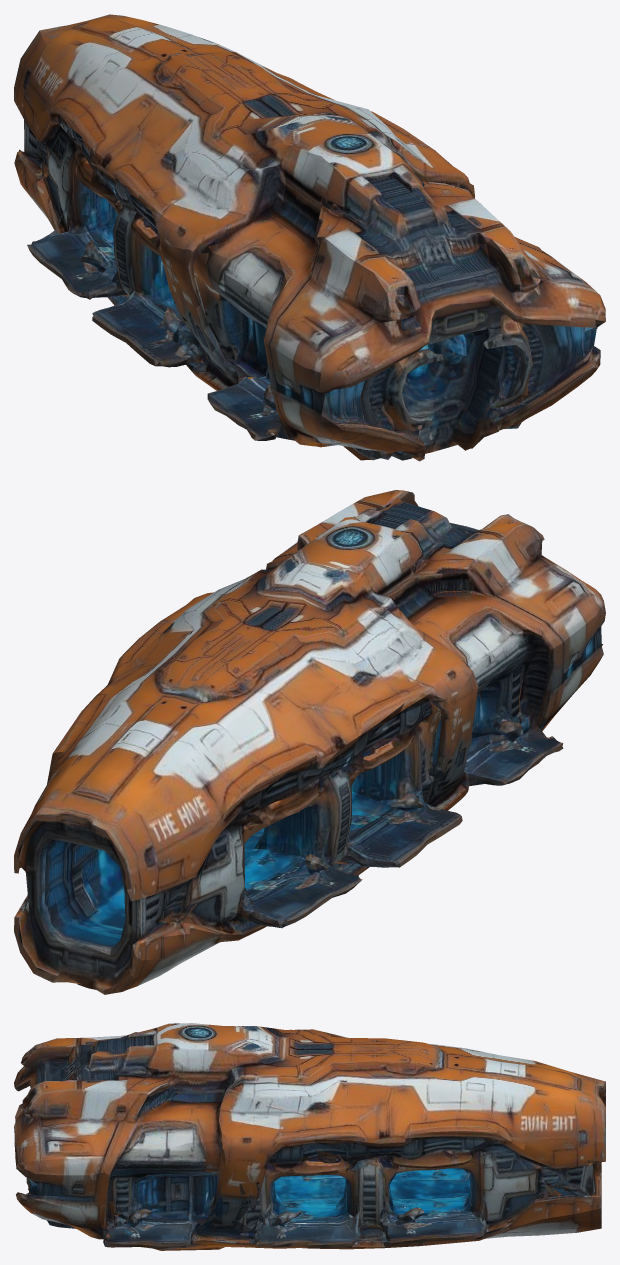
The model's file is carrier.glb.
3 renders of one model, top to bottom at view 1: azimuth 30°, elevation 25°; view 2: azimuth 150°, elevation 25°; view 3: azimuth 270°, elevation 25°, orthographic. The views are drawn at different scales.
Visible parts, largest first — view 1: Mesh0; view 2: Mesh0; view 3: Mesh0.
Boxes of the visible parts, box(x1,y1,x2,y2) form: Mesh0: box(14, 14, 605, 461); Mesh0: box(14, 490, 605, 994); Mesh0: box(14, 1023, 605, 1250).
Bounding box in the file's own units: 0.847 × 0.7471 × 1.91.
1 material, 1 textured.
